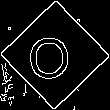O_N: (33, 29, 77, 81)
